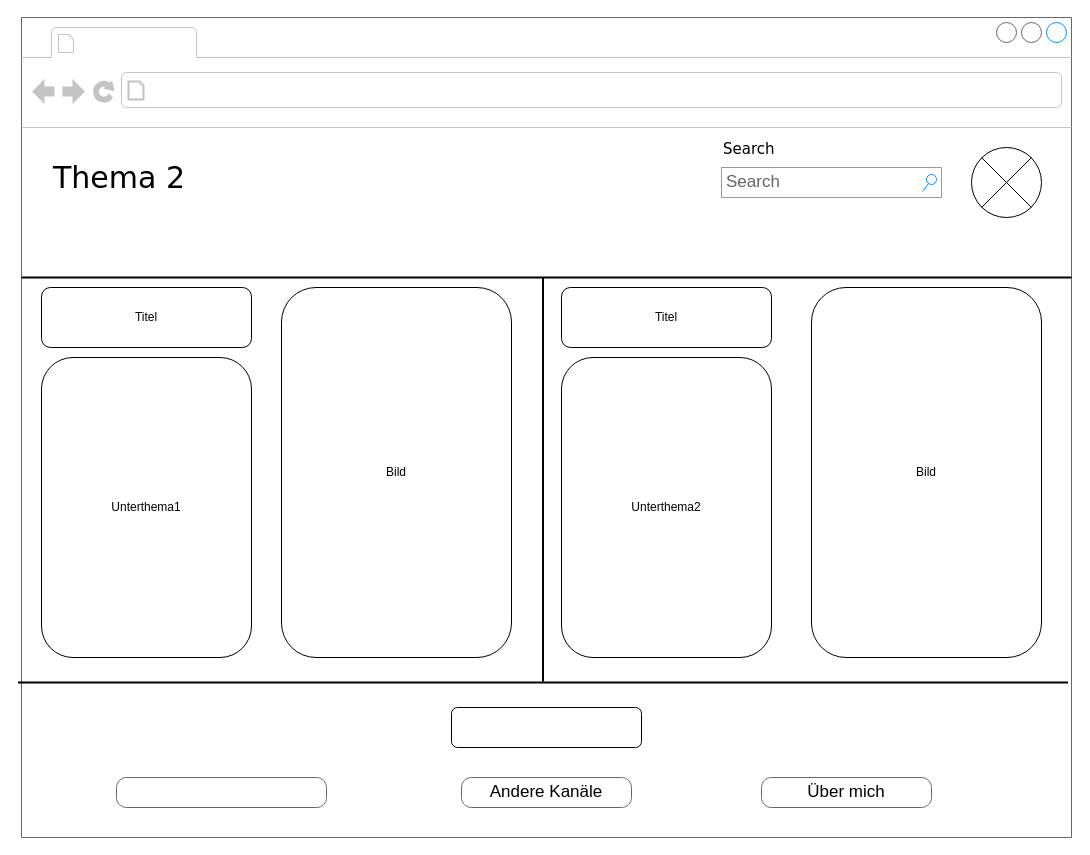
The diagram is 1090 pixels wide and 855 high, and some of its shapes have lost their labels. The shapes that lost their labels are listed below. From the top down, each one's centre as x and y in pixels, then its label:
the point at 136,42: Thema2
the point at 276,90: https://www.skialpin/thema2.com
the point at 546,727: Logos
the point at 221,792: Feedback Formular
